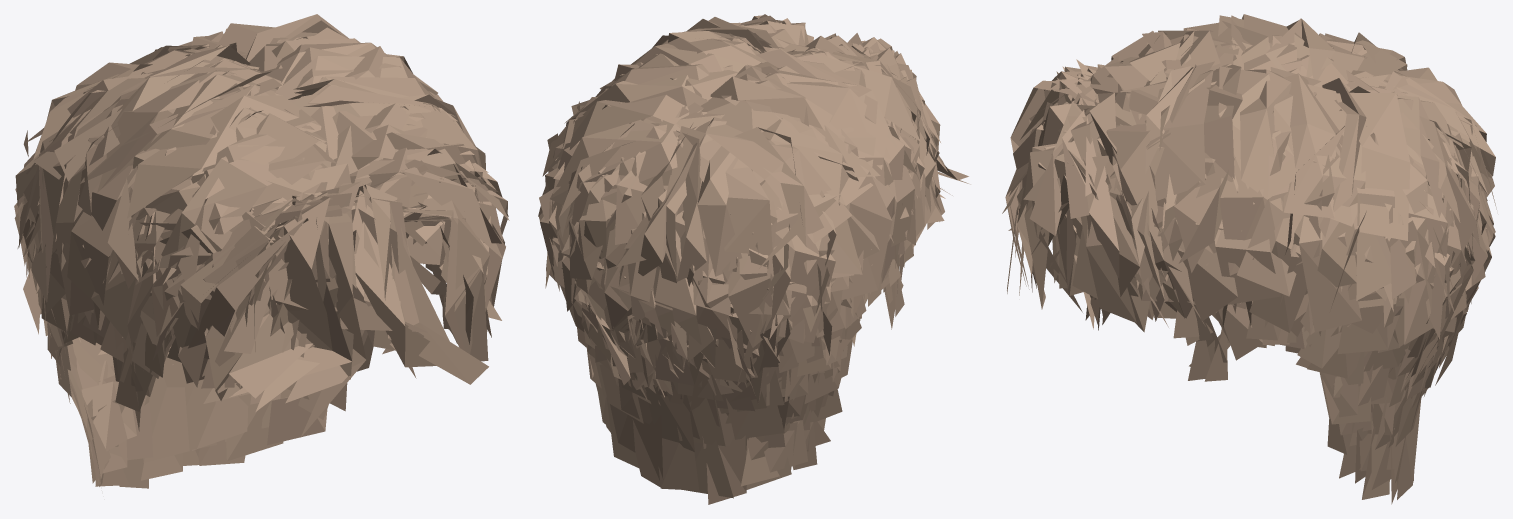
Rendered from male_hair_02_lod1.glb.
3 views of the same model, side by side, from view 1: azimuth 30°, elevation 25°; view 2: azimuth 150°, elevation 25°; view 3: azimuth 270°, elevation 25° (orthographic). The views are drawn at different scales.
Visible parts, largest first — view 1: hair_02; view 2: hair_02; view 3: hair_02.
Boxes of the visible parts, box(x1,y1,x2,y2) form: hair_02: box(14, 14, 509, 488); hair_02: box(538, 14, 970, 504); hair_02: box(1002, 14, 1496, 504).
Bounding box in the file's own units: 0.1708 × 0.2009 × 0.2067.
